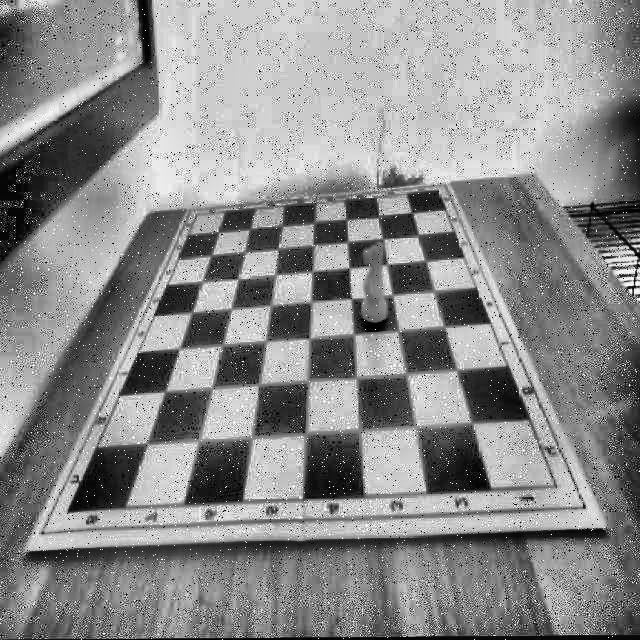white-knight: (360, 241, 388, 326)
